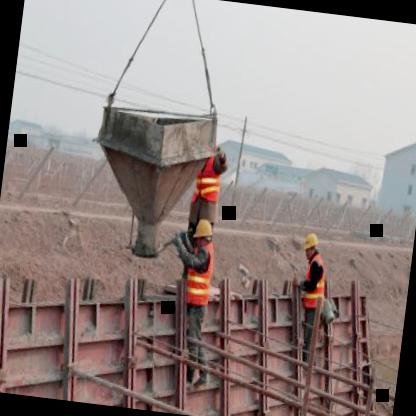helmet: (191, 214, 215, 250), (300, 230, 322, 262)
